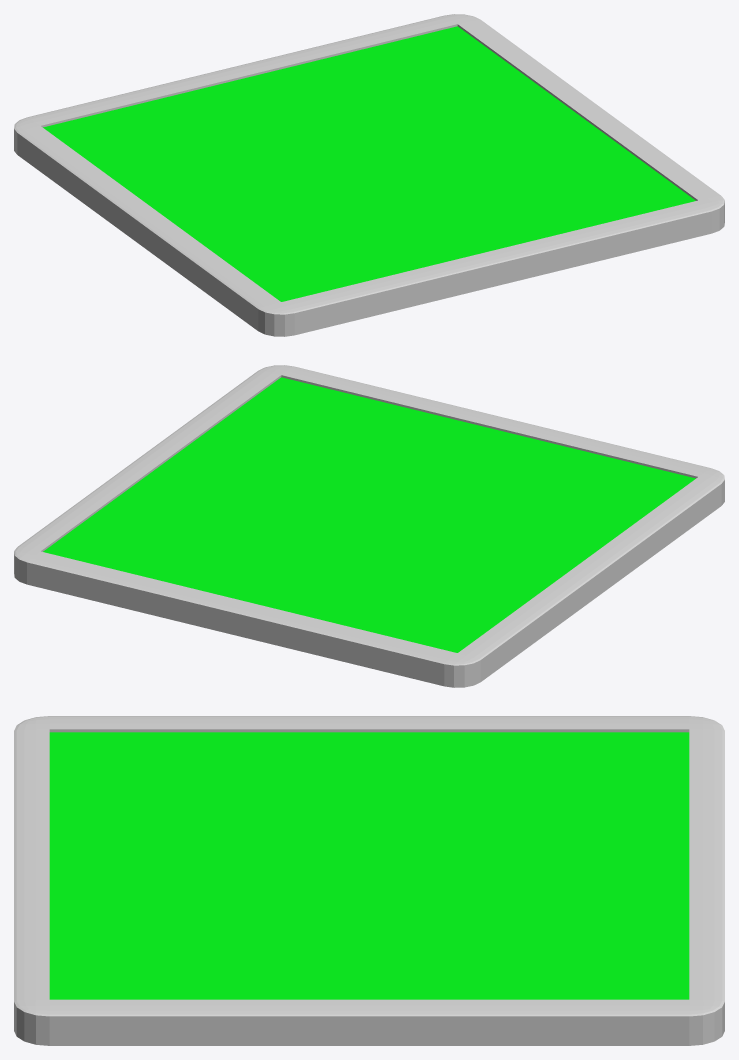
File: basis.fbx
3 views of the same model, one above another, from view 1: azimuth 30°, elevation 25°; view 2: azimuth 150°, elevation 25°; view 3: azimuth 270°, elevation 25° (orthographic). The views are drawn at different scales.
Parts seen in each view (by area): view 1: Plane, Cube; view 2: Plane, Cube; view 3: Plane, Cube.
Boxes of the visible parts, bbox=[...] form: Plane: bbox=[43, 26, 695, 301]; Cube: bbox=[14, 14, 724, 336]; Plane: bbox=[43, 377, 695, 652]; Cube: bbox=[14, 365, 724, 687]; Plane: bbox=[49, 732, 689, 999]; Cube: bbox=[14, 716, 724, 1045].
Bounding box in the file's own units: 3931 × 200 × 3931.
